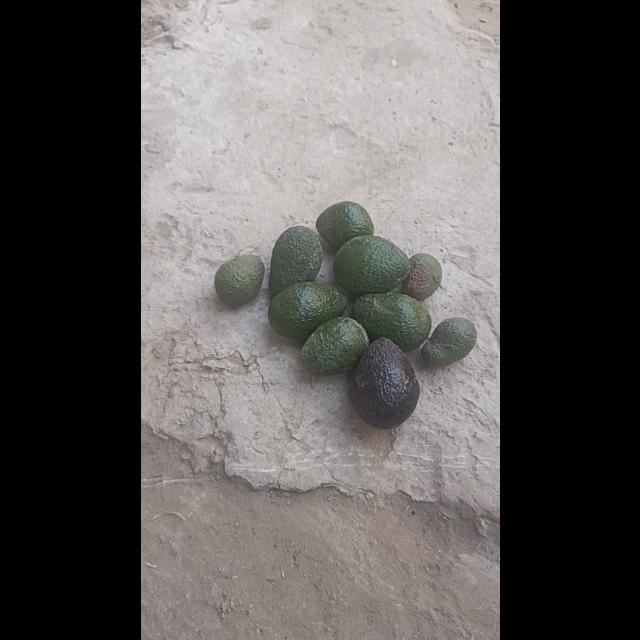Primera: (348, 338, 418, 426), (267, 280, 345, 342), (351, 292, 429, 351), (332, 236, 408, 296), (268, 226, 322, 294), (314, 201, 374, 251)
Segunda: (300, 316, 368, 374), (213, 255, 263, 308)
Tercera: (421, 316, 477, 368), (401, 252, 442, 302)
